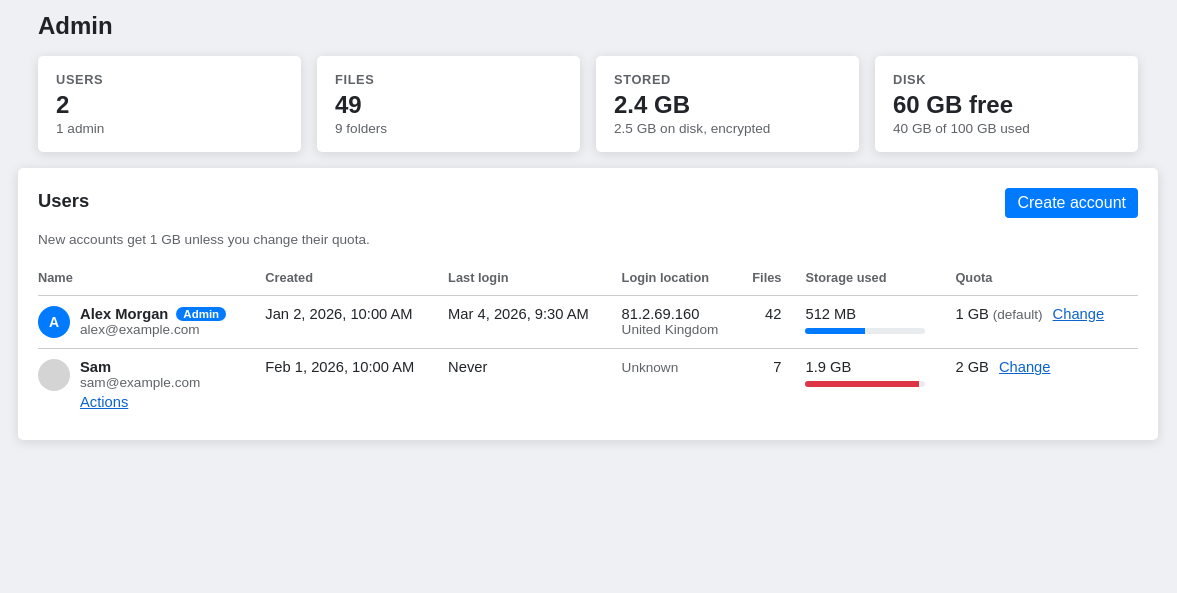
Test: Admin page › row actions › toggles permanent straight away and reloads
Click the button with aria-label "Actions for sam@example.com" at (104, 402), box [80,394,128,410]
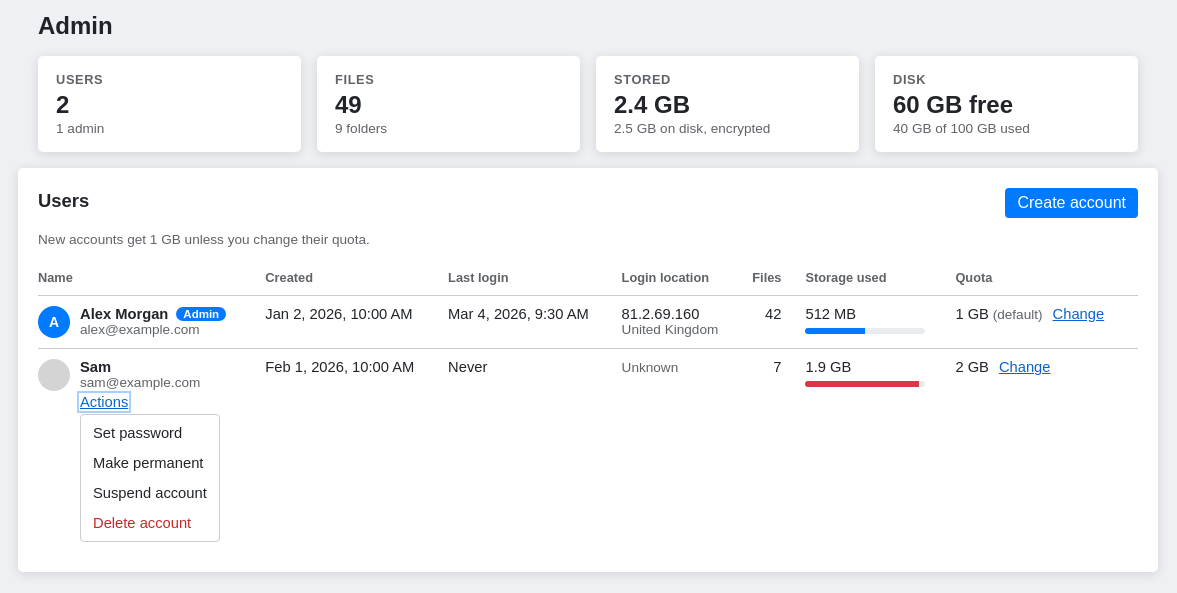
Click the menu item "Make permanent" at (148, 463), box [85,449,212,477]
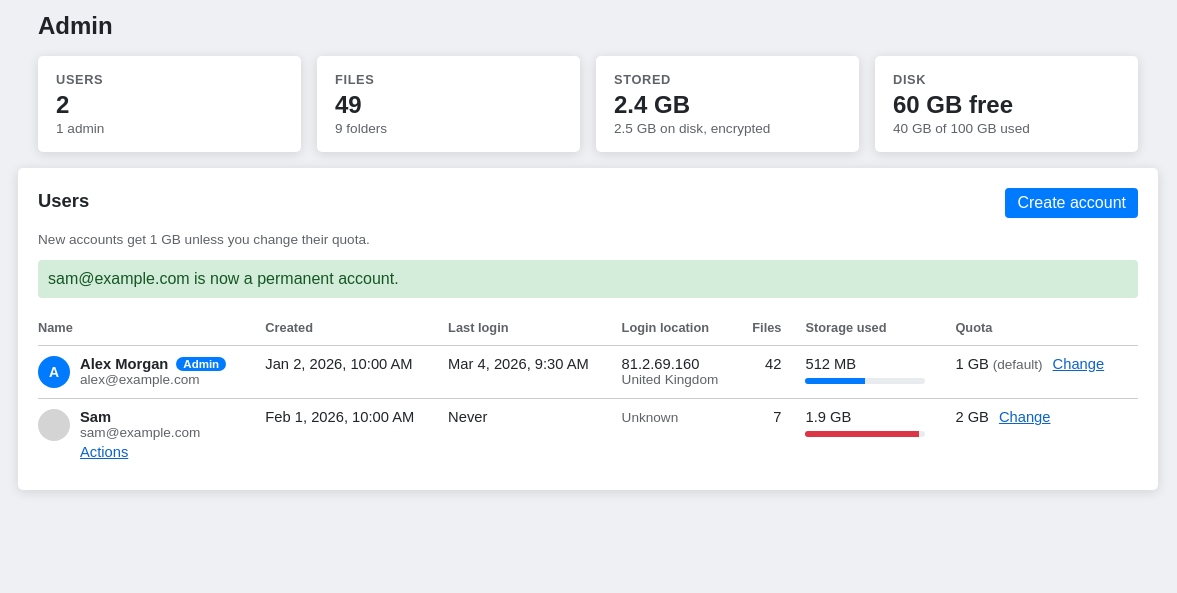
Expected: the message reads "sam@example.com is now a permanent account.", [48,270,399,287]
